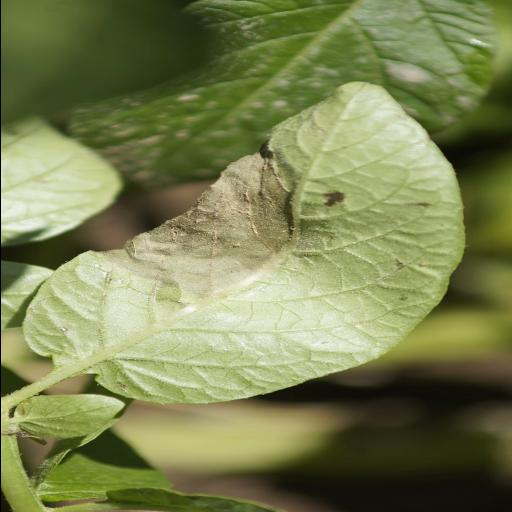Late Blight: (24, 80, 471, 408)
